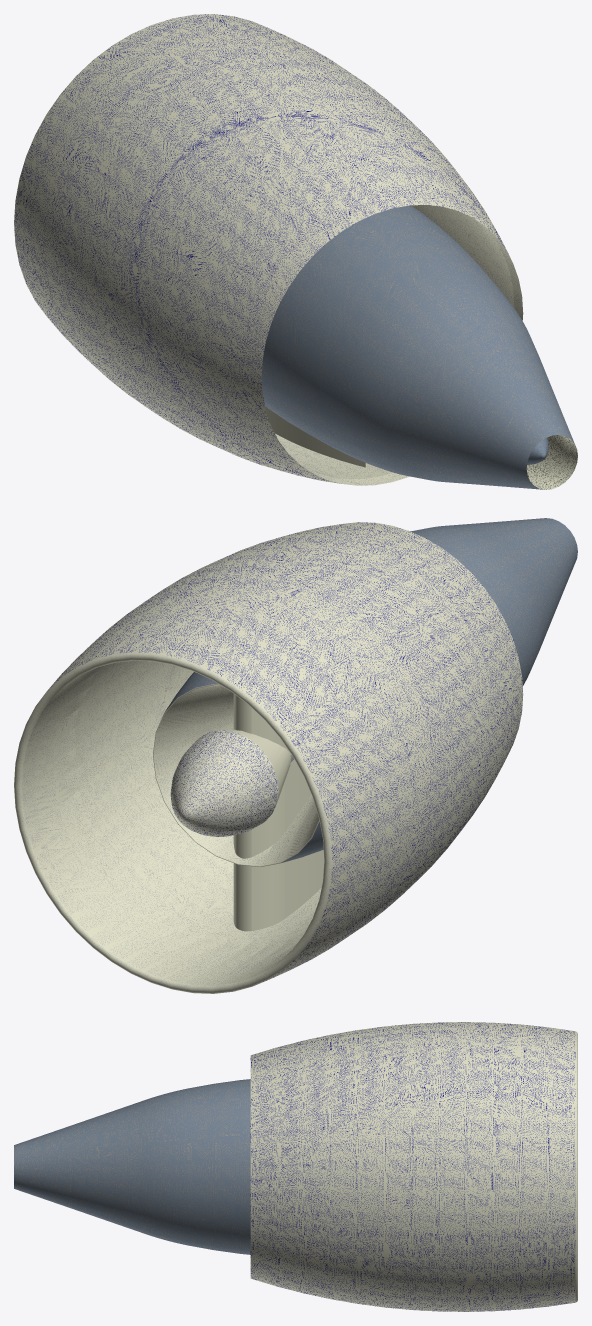
Rendered from original-37.obj.
The picture shows the model from 3 angles, top to bottom: view 1: azimuth 30°, elevation 25°; view 2: azimuth 150°, elevation 25°; view 3: azimuth 270°, elevation 25°; orthographic projection. The views are drawn at different scales.
Parts seen in each view (by area): view 1: mesh3/mesh3-geometry#mesh3-geometry; view 2: mesh3/mesh3-geometry#mesh3-geometry; view 3: mesh3/mesh3-geometry#mesh3-geometry.
Boxes of the visible parts, x1,y1,x2,y2 form: mesh3/mesh3-geometry#mesh3-geometry: (14,14,577,489); mesh3/mesh3-geometry#mesh3-geometry: (14,518,577,993); mesh3/mesh3-geometry#mesh3-geometry: (14,1022,577,1311).
Size of the model in its own units: 0.7968 by 0.7968 by 1.55.
